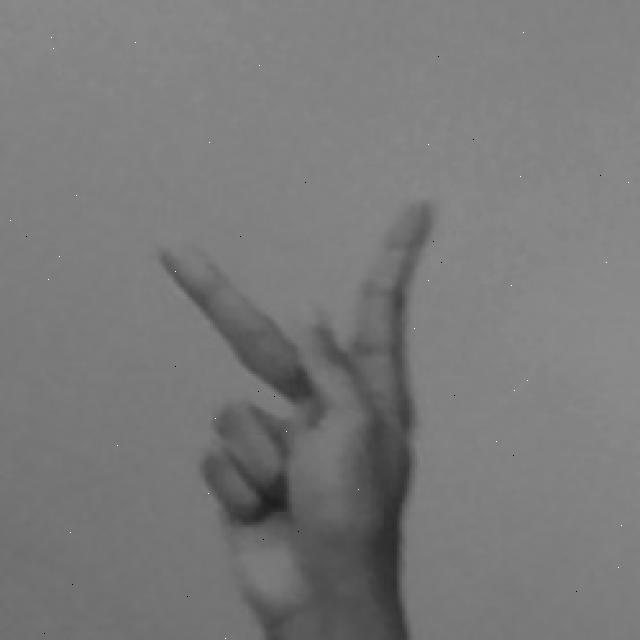K: (155, 192, 444, 640)
